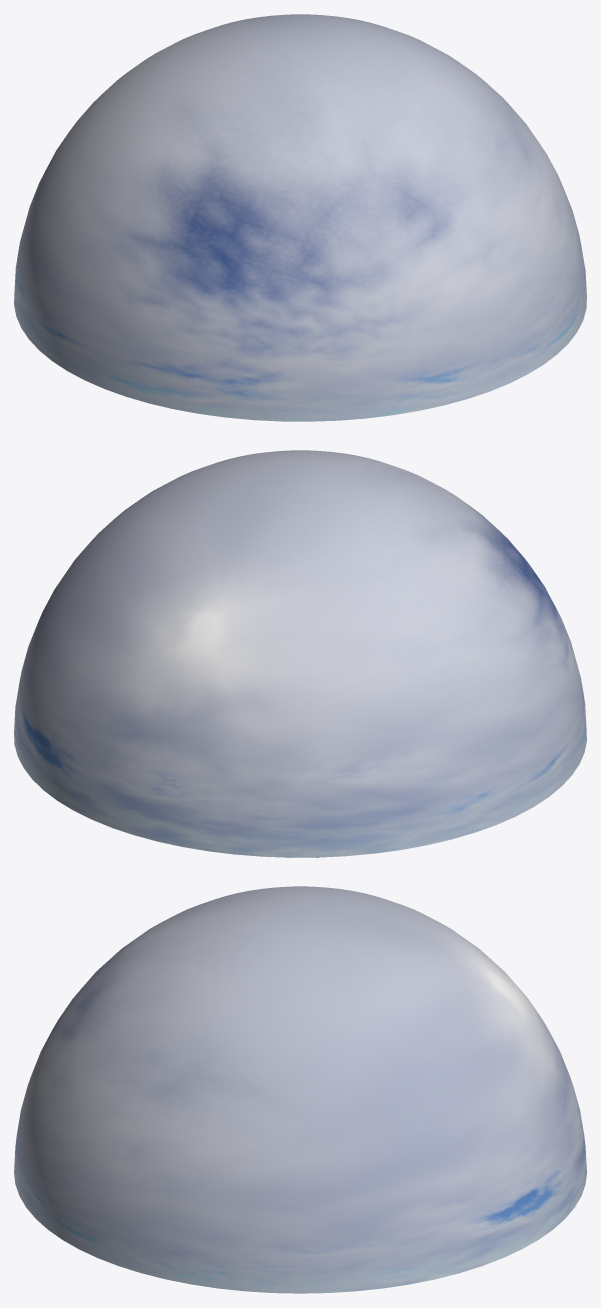
The model's file is SnowTerrain.fbx.
3 views of the same model, one above another, from view 1: azimuth 30°, elevation 25°; view 2: azimuth 150°, elevation 25°; view 3: azimuth 270°, elevation 25° (orthographic).
Parts seen in each view (by area): view 1: Sphere; view 2: Sphere; view 3: Sphere.
Boxes of the visible parts, <box> form: Sphere: <box>14,14,586,421</box>; Sphere: <box>14,450,586,857</box>; Sphere: <box>14,886,586,1293</box>.
Bounding box in the file's own units: 9736 × 4868 × 9736.
Materials: 2 (1 with a texture image).
